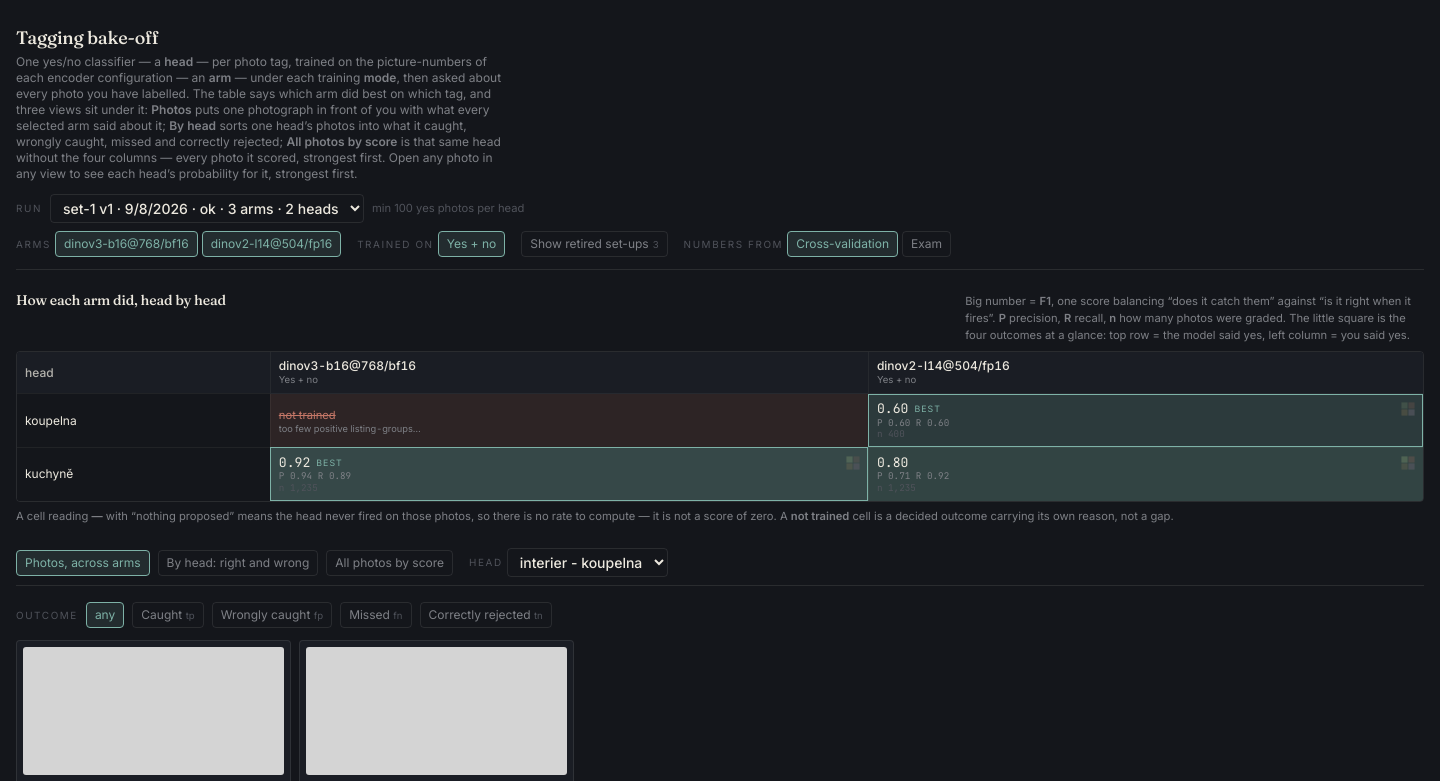
Test: <NewDedupTaggingBakeoff> — the metrics overview › deselecting an arm drops its columns
This screenshot has width=1440, height=781.
Expected: the cell with test id "cell-19-8-pos_neg" is shown, [868, 447, 1423, 500]
Click the button with test id "arm-8".
click(271, 244)  # box [202, 231, 341, 257]
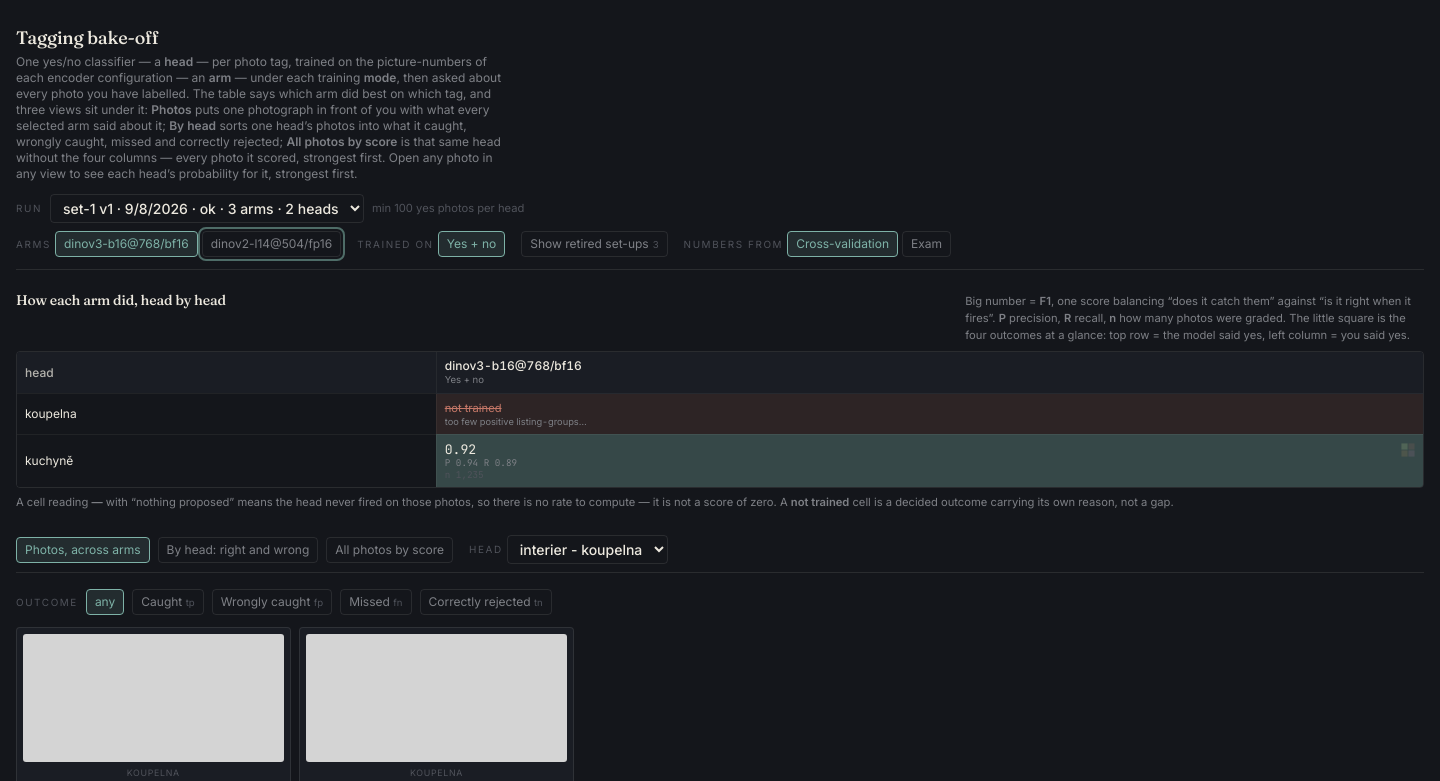
Expected: the cell with test id "cell-19-7-pos_neg" is shown, [436, 434, 1423, 488]
Result: the cell with test id "cell-19-8-pos_neg" is gone
